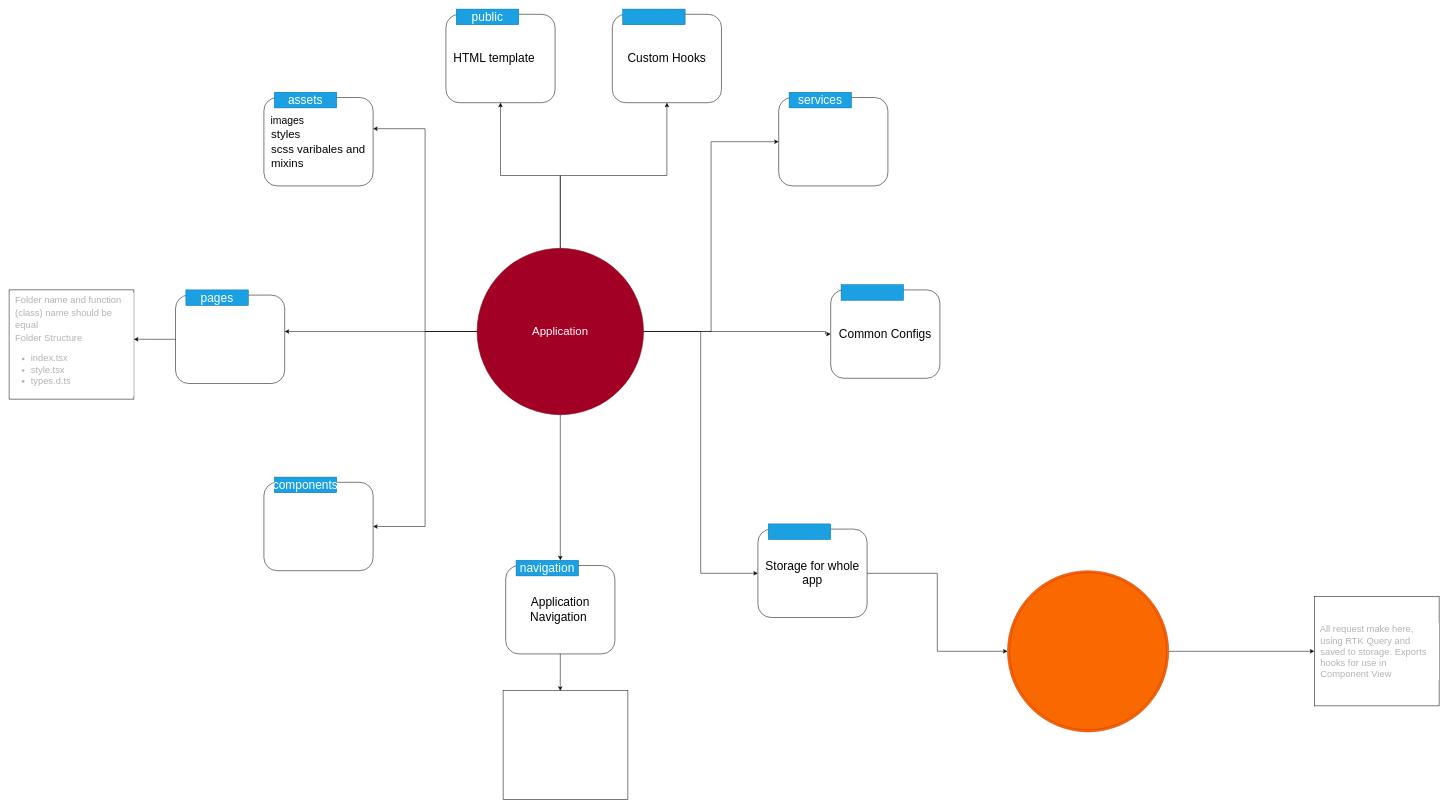
Some shapes in this 1448 by 809 pixel diagram are drawn without their labels. The box of each missing label's shape, as (x1, y1, x2, y2) in pixels:
Application Common Components those can use anywhere: (263, 482, 373, 571)
Application Pages: (175, 295, 285, 384)
Application Routing organized here. There also has Public and Private routes: (503, 690, 628, 800)
Common Services: (778, 97, 888, 186)
configs: (841, 284, 904, 300)
hooks: (622, 9, 685, 25)
Redux: (1007, 570, 1169, 732)
storage: (768, 523, 831, 540)
